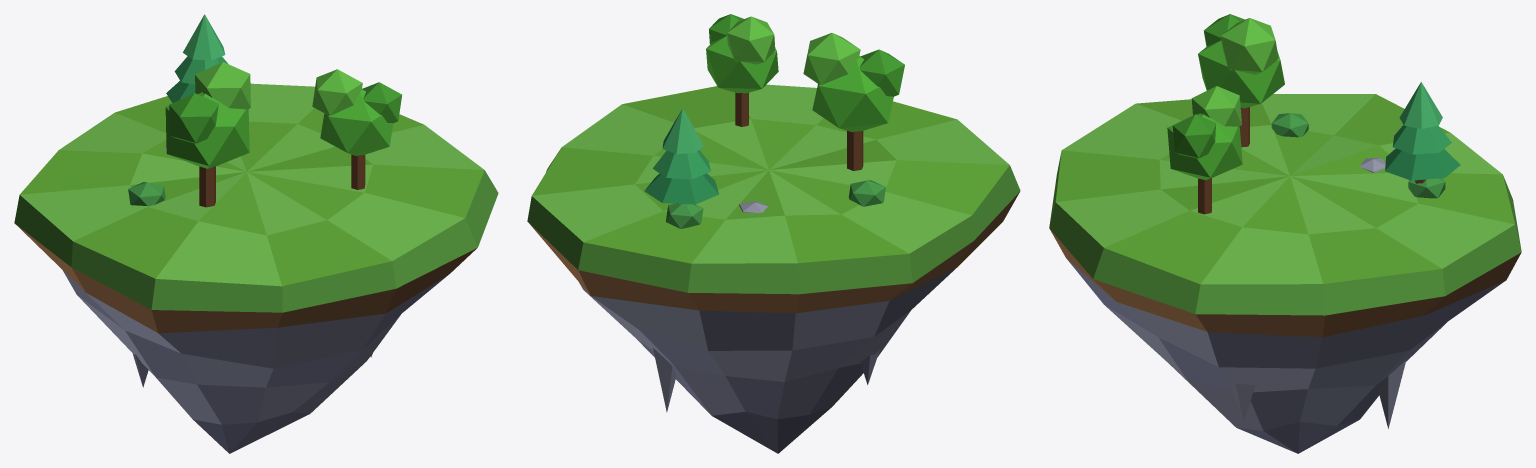
File: island_2.glb
The picture shows the model from 3 angles, left to right: view 1: azimuth 30°, elevation 25°; view 2: azimuth 150°, elevation 25°; view 3: azimuth 270°, elevation 25°; orthographic projection. The views are drawn at different scales.
Visible parts, largest first — view 1: Rock, Trees; view 2: Rock, Trees; view 3: Rock, Trees.
Part boxes in pixels (box(x1,y1,x2,y2)): Rock: box(14, 83, 498, 453); Trees: box(128, 14, 401, 207); Rock: box(527, 84, 1020, 453); Trees: box(644, 14, 904, 228); Rock: box(1049, 94, 1521, 453); Trees: box(1167, 14, 1460, 214).
Bounding box in the file's own units: 12.53 × 12.51 × 12.72.
